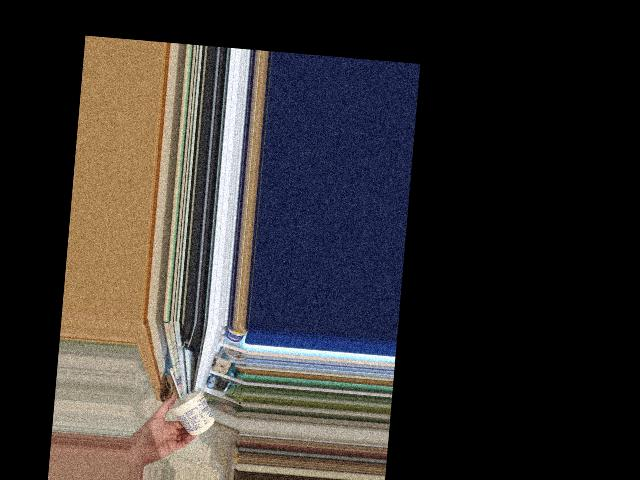cotage: (168, 384, 218, 438)
